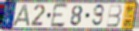2: (30, 4, 47, 27)
8: (70, 5, 84, 27)
9: (91, 4, 105, 28)
A: (12, 3, 32, 27)
B: (106, 4, 123, 29)
E: (50, 2, 70, 28)
